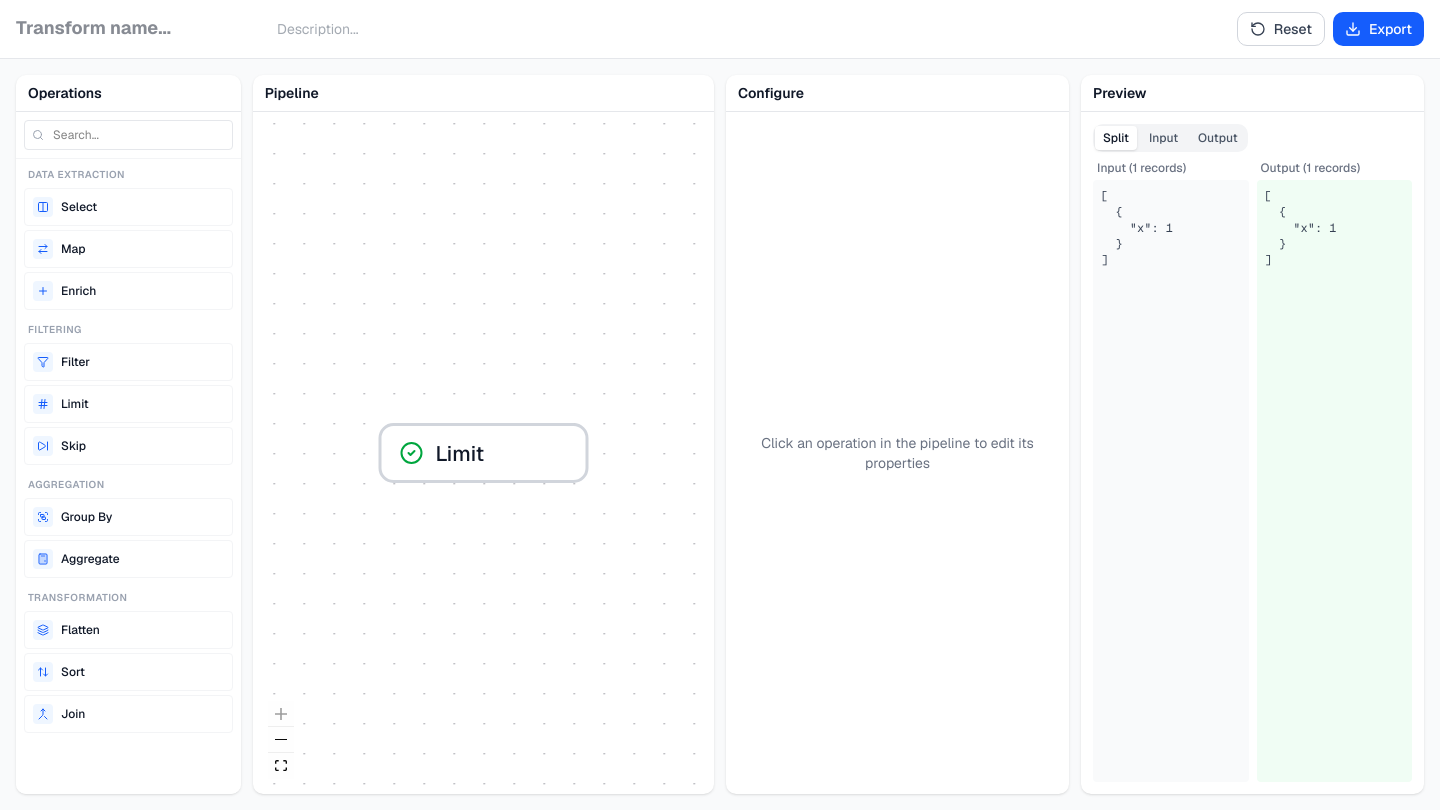
Test case: TransformsPage › should export YAML when button clicked
What coordinates should you click on to do the following:
click the button with aria-label "export yaml"
I would click on:
 (1378, 29)
Its box is [1333,12,1424,46].
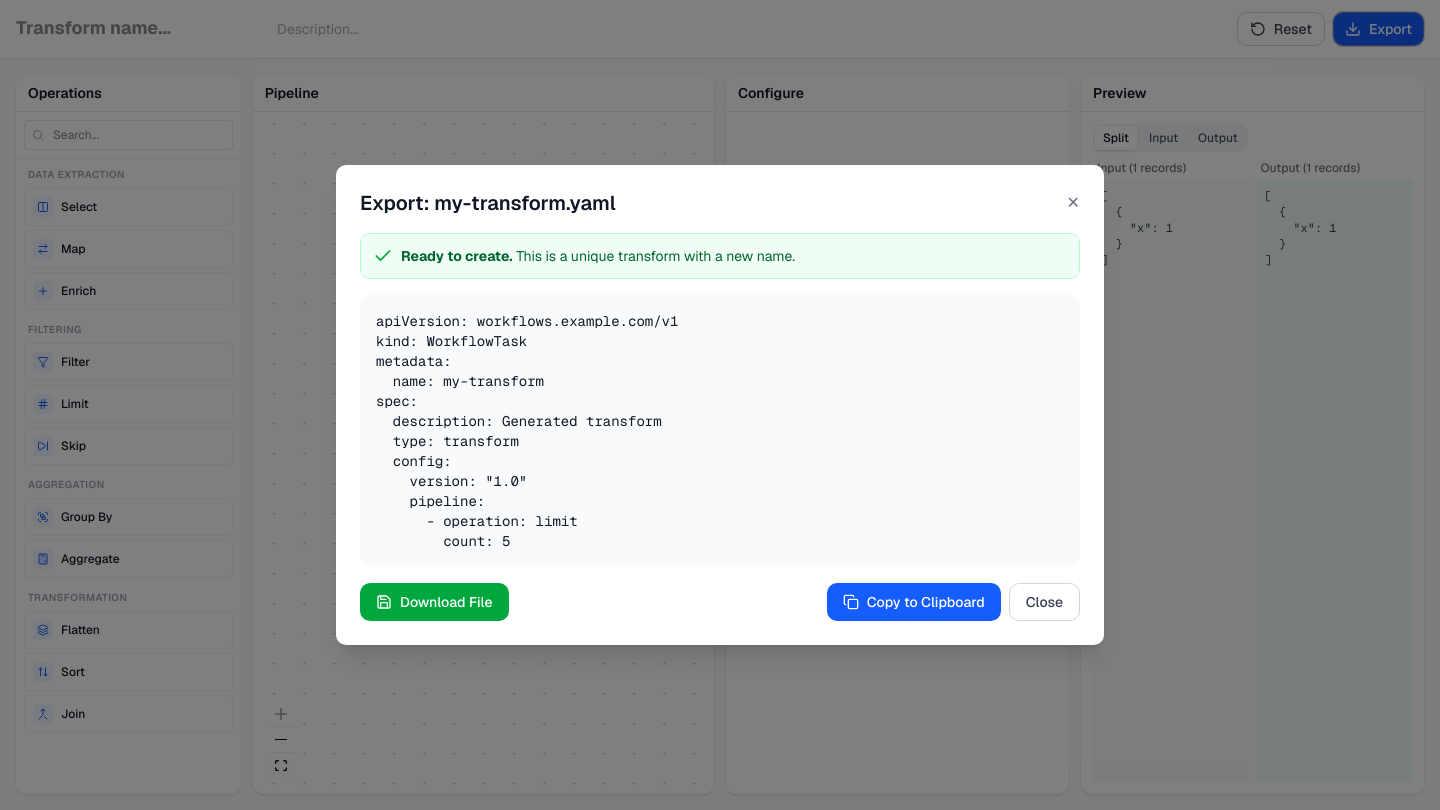
Result: the text "apiVersion" is shown at [376,312,678,550]
